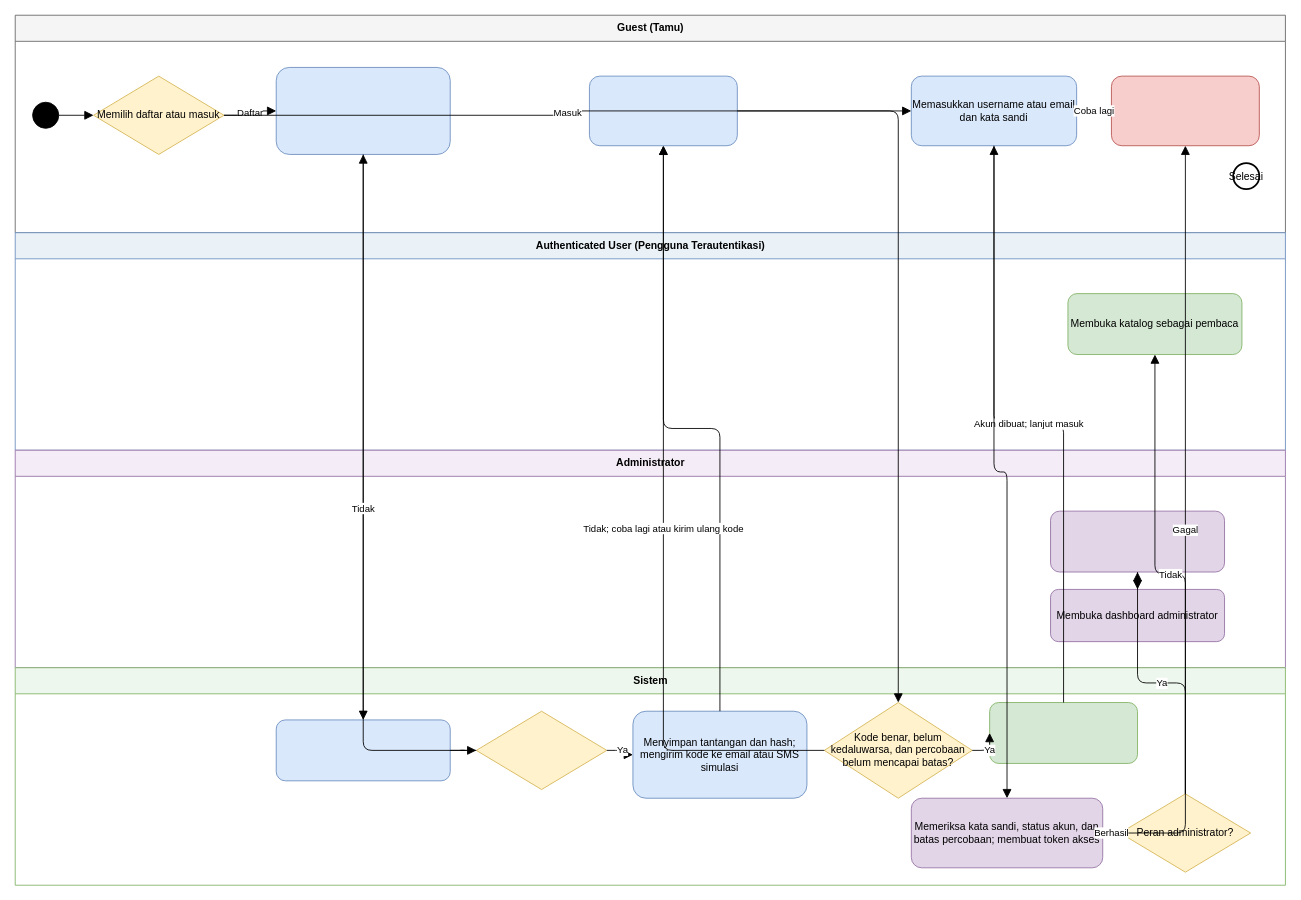
Image size: 1301x900. Some labels were removed from this diagram. The shapes that lost their labels are listed below. From the top down, each one's centre as x and y in pixels, then its label:
point 362,110: Mengisi username, email, telepon, kata sandi, dan metode verifikasi
point 663,110: Memasukkan kode OTP enam digit
point 1185,110: Melihat pesan kesalahan dan mencoba lagi
point 1137,541: Menerima cookie sesi administrator
point 362,750: Memvalidasi formulir dan keunikan identitas
point 541,750: Data pendaftaran valid?
point 1063,732: Membuat akun dan menandai kontak terverifikasi
